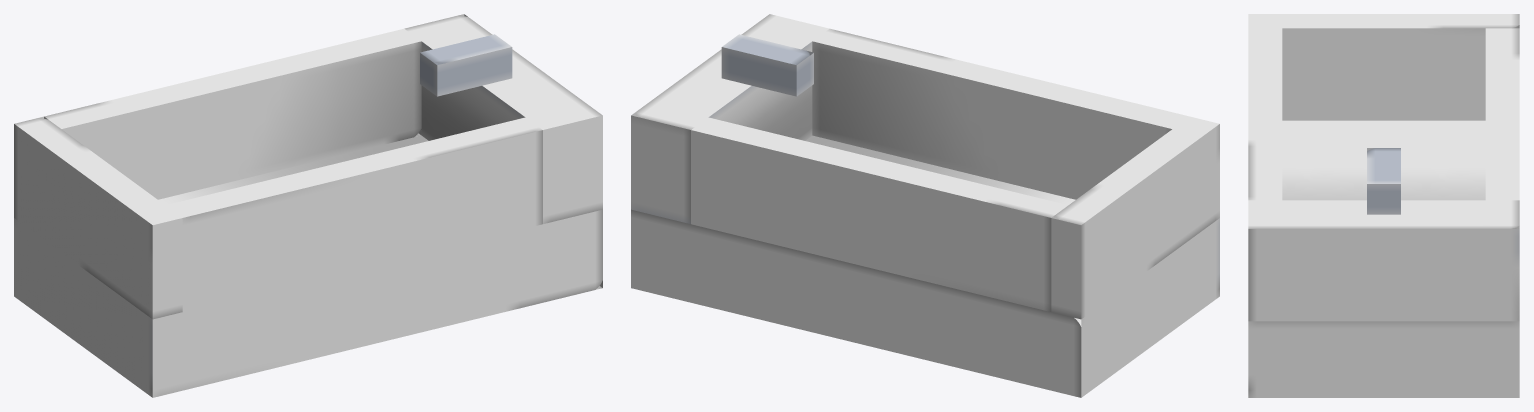
Rendered from Bathtub.fbx.
The picture shows the model from 3 angles, left to right: view 1: azimuth 30°, elevation 25°; view 2: azimuth 150°, elevation 25°; view 3: azimuth 270°, elevation 25°; orthographic projection. The views are drawn at different scales.
Visible parts, largest first — view 1: cube, cube_3, cube_4, cube_2, cube_1, cube_5; view 2: cube, cube_4, cube_3, cube_2, cube_1, cube_5; view 3: cube, cube_1, cube_2, cube_4, cube_3, cube_5.
Boxes of the visible parts, box(x1,y1,x2,y2) form: cube: box(14, 133, 602, 397); cube_3: box(166, 117, 542, 311); cube_4: box(44, 28, 421, 199); cube_2: box(14, 116, 182, 319); cube_1: box(404, 14, 602, 223); cube_5: box(420, 34, 512, 96); cube: box(631, 135, 1219, 397); cube_4: box(691, 117, 1067, 311); cube_3: box(812, 28, 1189, 199); cube_2: box(1051, 116, 1219, 319); cube_1: box(631, 14, 829, 223); cube_5: box(721, 34, 813, 96); cube: box(1248, 120, 1519, 397); cube_1: box(1248, 200, 1519, 321); cube_2: box(1248, 14, 1519, 120); cube_4: box(1485, 28, 1519, 228); cube_3: box(1248, 28, 1282, 200); cube_5: box(1367, 148, 1400, 214).
Size of the model in its own units: 188 by 81.25 by 100.
Materials: 1 (1 with a texture image).
